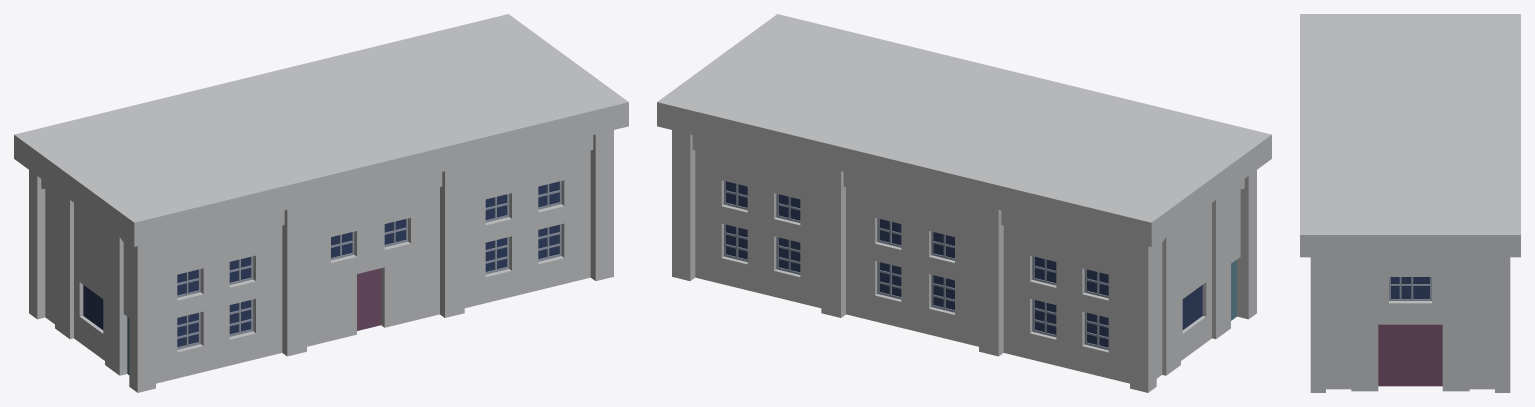
Rendered from Building_4.fbx.
3 views of the same model, side by side, from view 1: azimuth 30°, elevation 25°; view 2: azimuth 150°, elevation 25°; view 3: azimuth 270°, elevation 25° (orthographic). The views are drawn at different scales.
Visible parts, largest first — view 1: Building_4; view 2: Building_4; view 3: Building_4.
Boxes of the visible parts, <box> form: Building_4: <box>14,14,628,392</box>; Building_4: <box>657,14,1271,392</box>; Building_4: <box>1300,14,1520,392</box>.
Size of the model in its own units: 18.9 by 6.45 by 7.97.
